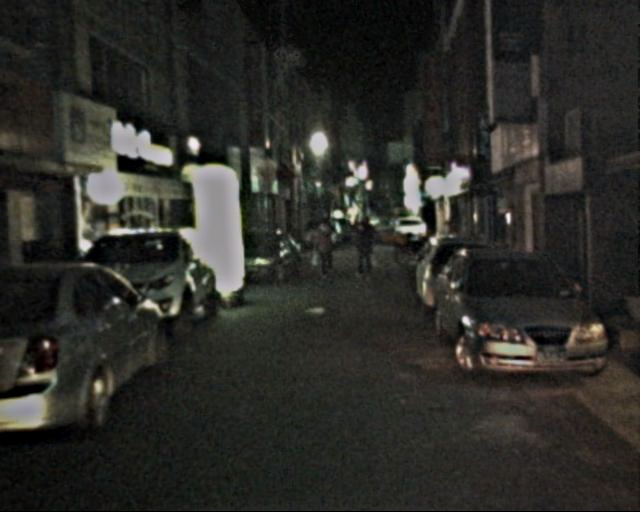person: (349, 221, 376, 287), (310, 221, 336, 284)
